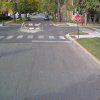Crosswalk: (0, 29, 84, 47)
